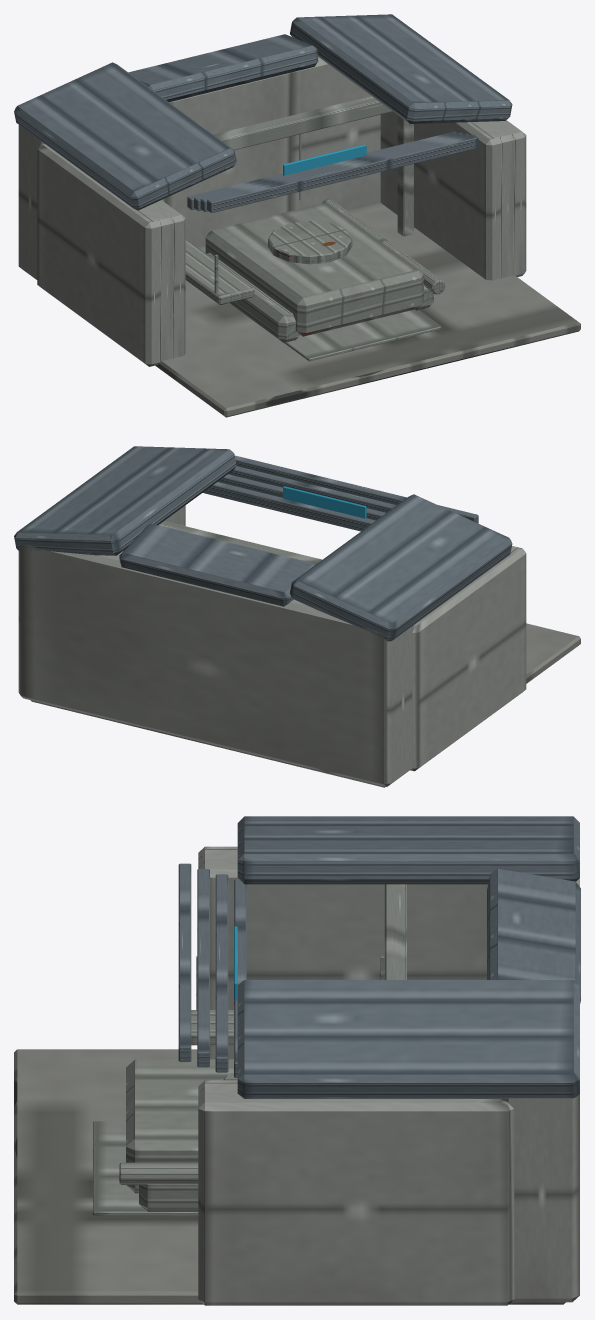
File: edificio-b_016-e5-lod0-BJQJj7JU.glb
The picture shows the model from 3 angles, top to bottom: view 1: azimuth 30°, elevation 25°; view 2: azimuth 150°, elevation 25°; view 3: azimuth 270°, elevation 25°; orthographic projection. The views are drawn at different scales.
Visible parts, largest first — view 1: envolvente_fabrica_asedio_e5, mecanismo_fabrica_asedio_e5, team_color; view 2: envolvente_fabrica_asedio_e5, team_color, mecanismo_fabrica_asedio_e5; view 3: envolvente_fabrica_asedio_e5, mecanismo_fabrica_asedio_e5.
Part boxes in pixels (box(x1,y1,x2,y2)): envolvente_fabrica_asedio_e5: box(14, 14, 580, 417); mecanismo_fabrica_asedio_e5: box(185, 96, 445, 361); team_color: box(283, 144, 366, 175); envolvente_fabrica_asedio_e5: box(14, 446, 580, 787); team_color: box(283, 486, 366, 518); mecanismo_fabrica_asedio_e5: box(158, 521, 321, 564); envolvente_fabrica_asedio_e5: box(14, 816, 580, 1305); mecanismo_fabrica_asedio_e5: box(93, 884, 406, 1215).
Bounding box in the file's own units: 47.02 × 22.37 × 43.07.
Materials: 2 (1 with a texture image).
